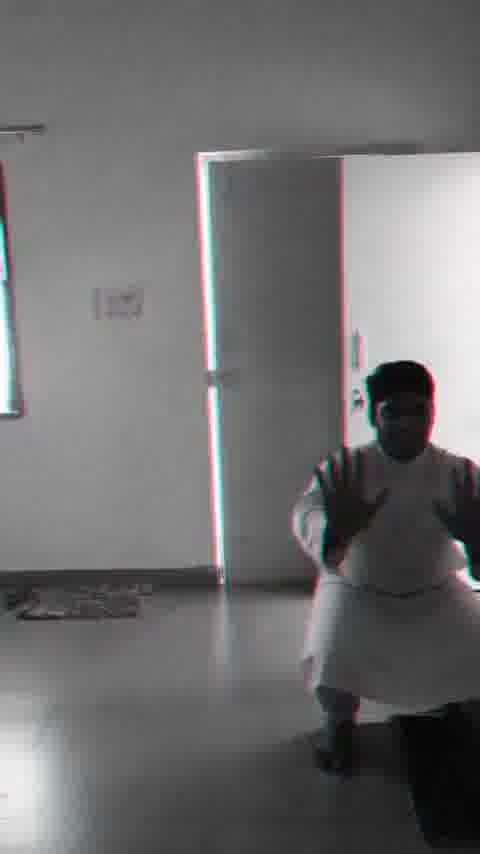duck: (292, 346, 480, 783)
